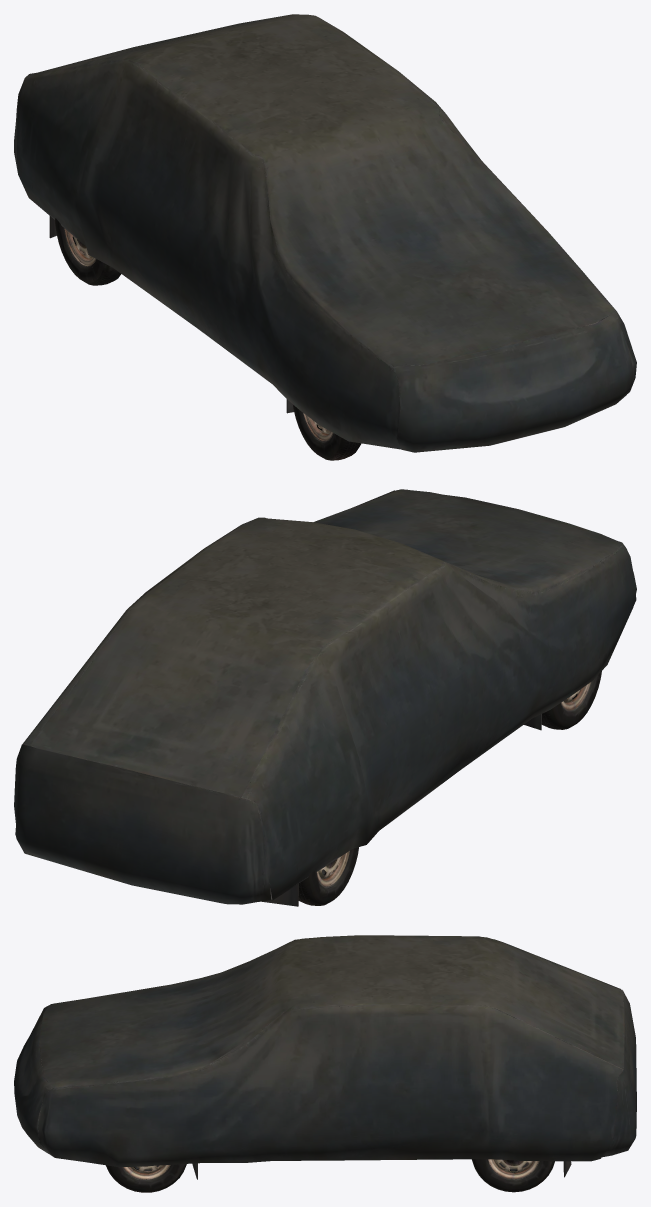
Rendered from covered_car.glb.
3 views of the same model, one above another, from view 1: azimuth 30°, elevation 25°; view 2: azimuth 150°, elevation 25°; view 3: azimuth 270°, elevation 25° (orthographic). The views are drawn at different scales.
Parts seen in each view (by area): view 1: covered_car; view 2: covered_car; view 3: covered_car.
Part boxes in pixels (x1,y1,x2,y2): covered_car: [14, 14, 636, 460]; covered_car: [14, 489, 636, 906]; covered_car: [14, 935, 636, 1192].
Bounding box in the file's own units: 1.79 × 1.41 × 4.37.
2 materials, 2 textured.
